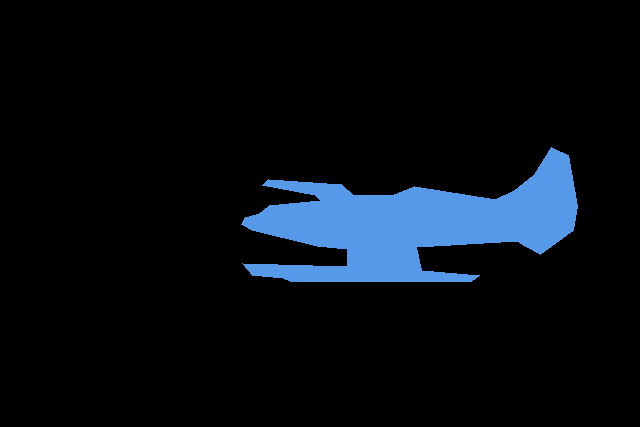Airplane: (241, 147, 578, 281)
